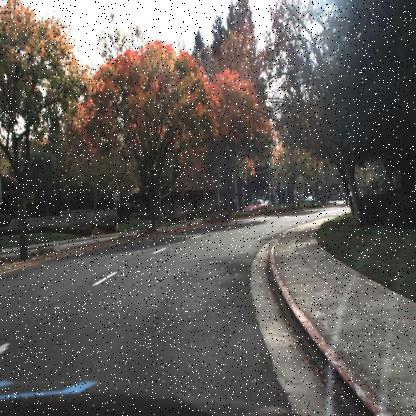car: (242, 197, 270, 217), (305, 193, 315, 203)
